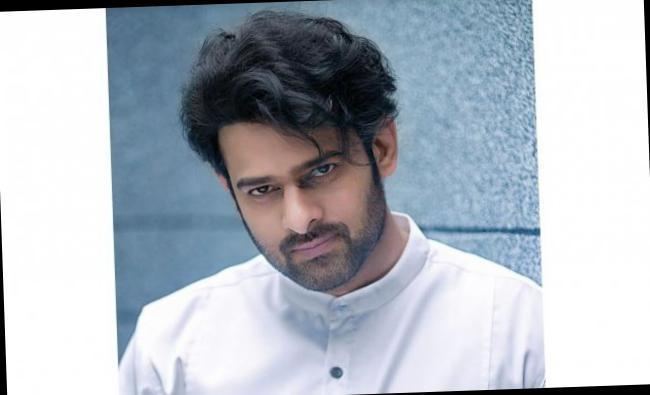Sober: (227, 120, 376, 284)
